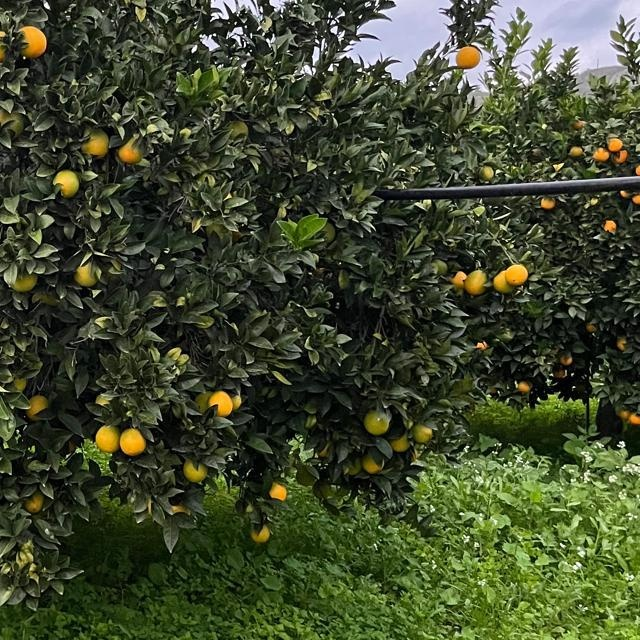orange: (19, 22, 49, 58), (51, 167, 81, 197), (362, 407, 390, 435), (119, 426, 145, 454), (118, 135, 146, 161), (75, 258, 101, 286), (82, 130, 108, 156), (456, 42, 482, 68), (23, 391, 49, 417), (95, 423, 119, 451), (8, 270, 38, 292), (0, 108, 21, 136), (182, 457, 206, 481), (227, 112, 249, 138), (24, 489, 46, 513), (465, 267, 485, 293), (36, 282, 60, 302), (360, 454, 382, 474), (210, 394, 230, 416), (248, 523, 268, 543), (412, 422, 434, 440), (295, 467, 317, 485), (507, 266, 527, 284), (391, 436, 411, 454), (268, 481, 286, 499), (479, 163, 497, 179), (496, 274, 512, 290), (602, 218, 618, 234), (514, 379, 532, 393), (453, 273, 465, 291), (316, 482, 328, 500), (539, 198, 557, 210), (0, 29, 6, 61), (607, 137, 623, 149), (568, 145, 584, 157), (629, 190, 639, 208), (475, 339, 489, 351), (596, 148, 608, 160), (614, 150, 626, 162), (554, 368, 566, 380), (617, 410, 631, 420), (629, 414, 639, 426), (560, 354, 572, 364), (584, 322, 596, 332), (572, 118, 584, 128), (619, 190, 631, 198), (617, 337, 625, 349)
